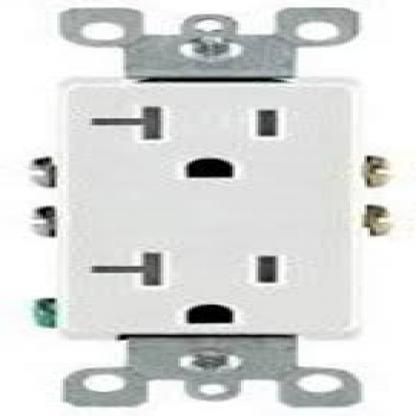OUTLET: (60, 80, 362, 340)
